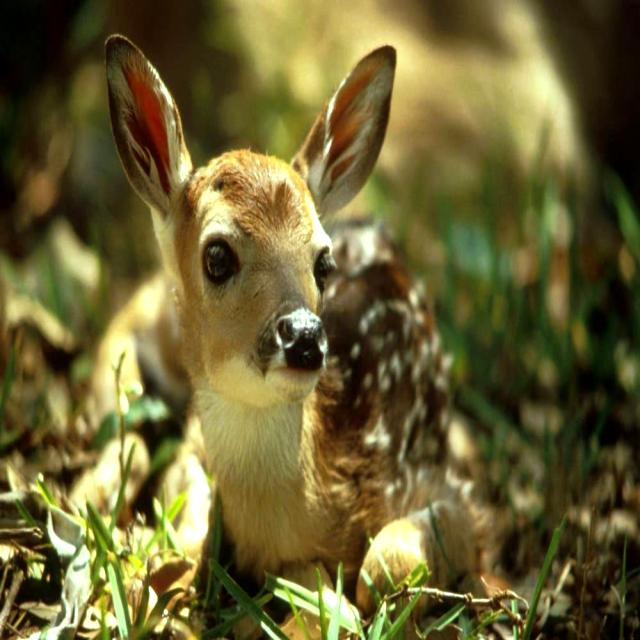deer: (98, 19, 407, 401)
